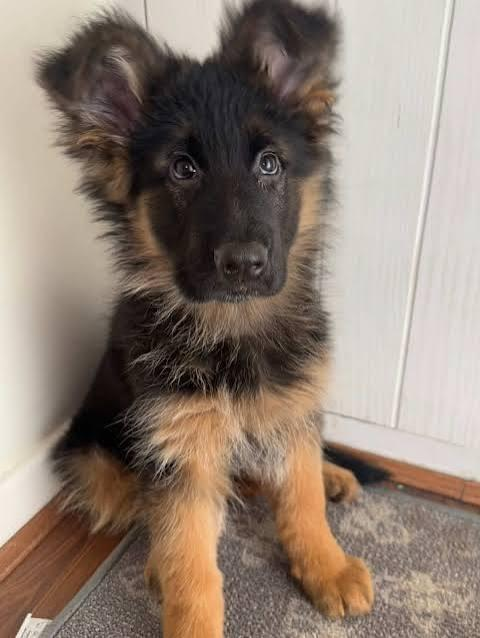puppy-dog: (26, 1, 378, 638)
